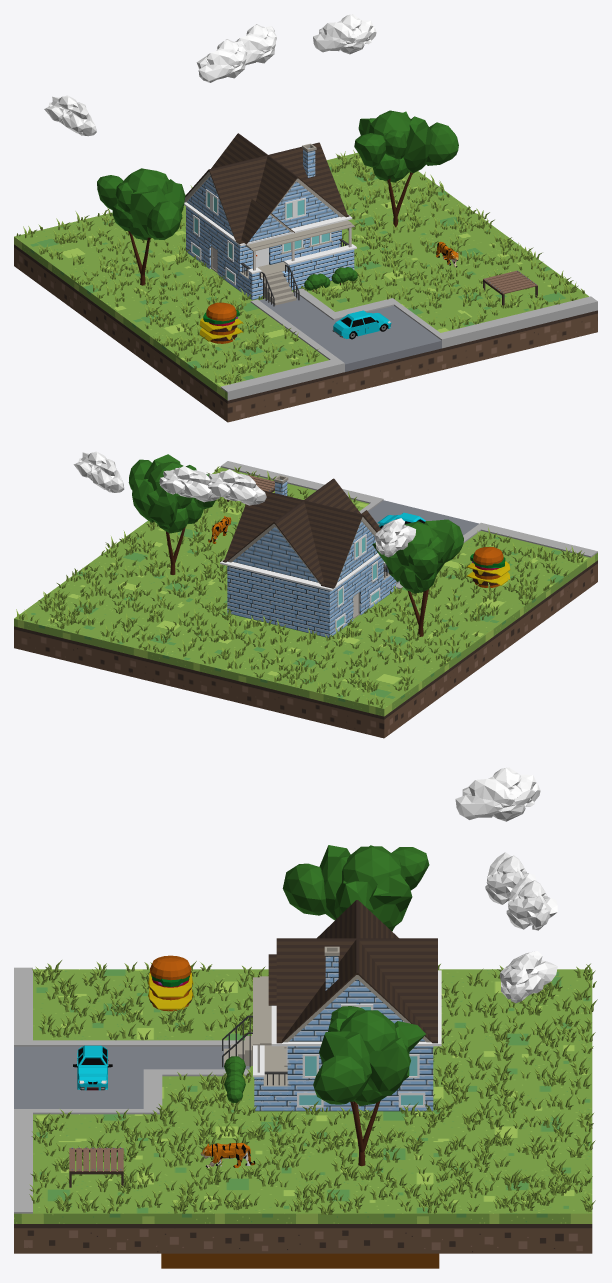
3 renders of one model, top to bottom at view 1: azimuth 30°, elevation 25°; view 2: azimuth 150°, elevation 25°; view 3: azimuth 270°, elevation 25°, orthographic. The views are drawn at different scales.
Parts seen in each view (by area): view 1: Cube.006, Cube.547, Circle.012_Grass_0.192, Cube.007, tree, tree.001, OBJRANDOM_HAMBURGER, VEHICLES_CAR, Cube.009; view 2: Cube.006, Cube.547, Circle.012_Grass_0.192, Cube.007, tree.001, tree, OBJRANDOM_HAMBURGER; view 3: Cube.006, Circle.012_Grass_0.192, Cube.547, tree, Cube.007, tree.001, UNDERGROUND_ART_PIECE_VAN_GOGH, OBJRANDOM_HAMBURGER, Cube.009, VEHICLES_CAR, ANIMAL_TIGRE.
Part boxes in pixels (x1=…): Cube.006: x1=14, y1=152, x2=597, y2=422; Cube.547: x1=184, y1=133, x2=356, y2=306; Circle.012_Grass_0.192: x1=16, y1=150, x2=584, y2=384; Cube.007: x1=44, y1=14, x2=376, y2=136; tree: x1=354, y1=110, x2=458, y2=227; tree.001: x1=97, y1=168, x2=185, y2=285; OBJRANDOM_HAMBURGER: x1=199, y1=302, x2=243, y2=343; VEHICLES_CAR: x1=332, y1=310, x2=391, y2=339; Cube.009: x1=483, y1=270, x2=537, y2=305; Cube.006: x1=14, y1=461, x2=597, y2=738; Cube.547: x1=220, y1=475, x2=395, y2=637; Circle.012_Grass_0.192: x1=16, y1=466, x2=584, y2=708; Cube.007: x1=73, y1=451, x2=415, y2=557; tree.001: x1=372, y1=519, x2=463, y2=636; tree: x1=128, y1=454, x2=215, y2=574; OBJRANDOM_HAMBURGER: x1=466, y1=547, x2=510, y2=587; Cube.006: x1=14, y1=967, x2=592, y2=1253; Circle.012_Grass_0.192: x1=29, y1=960, x2=597, y2=1214; Cube.547: x1=222, y1=900, x2=441, y2=1111; tree: x1=313, y1=1006, x2=425, y2=1166; Cube.007: x1=455, y1=767, x2=557, y2=1003; tree.001: x1=282, y1=845, x2=429, y2=931; UNDERGROUND_ART_PIECE_VAN_GOGH: x1=161, y1=1253, x2=439, y2=1268; OBJRANDOM_HAMBURGER: x1=148, y1=955, x2=193, y2=1011; Cube.009: x1=69, y1=1147, x2=123, y2=1187; VEHICLES_CAR: x1=73, y1=1045, x2=112, y2=1090; ANIMAL_TIGRE: x1=200, y1=1142, x2=255, y2=1167.
Size of the model in its own units: 4071 by 2301 by 4040.
Materials: 40 (5 with a texture image).
